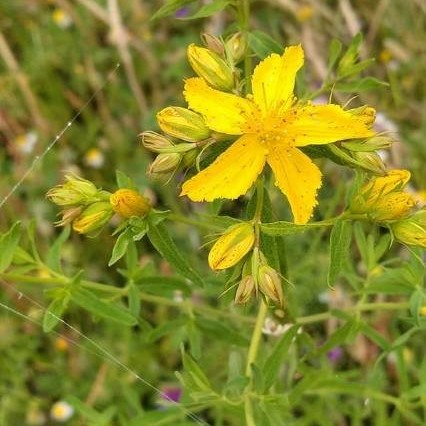obstacle: (38, 53, 415, 406)
